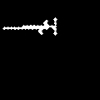double_crochet: (3, 18, 56, 34)
